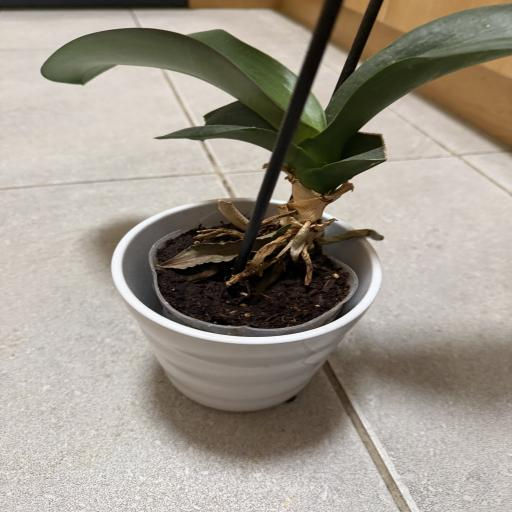Plant Pot: (108, 196, 383, 413)
